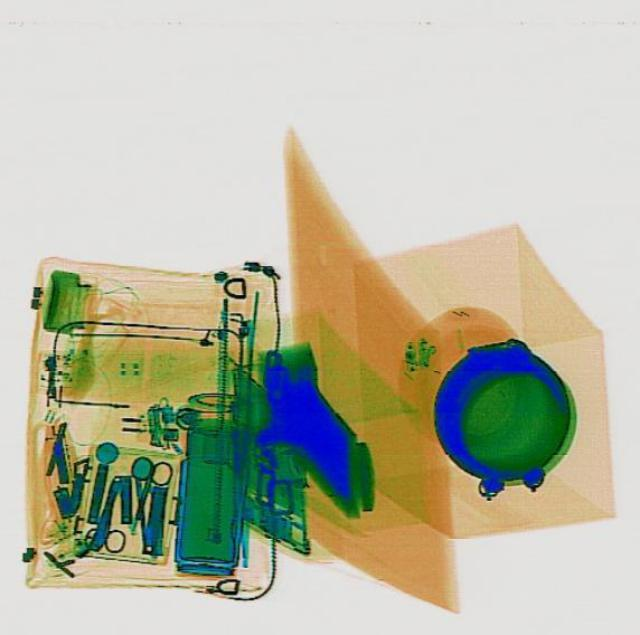Scissors: (109, 452, 175, 536), (81, 478, 130, 553)
